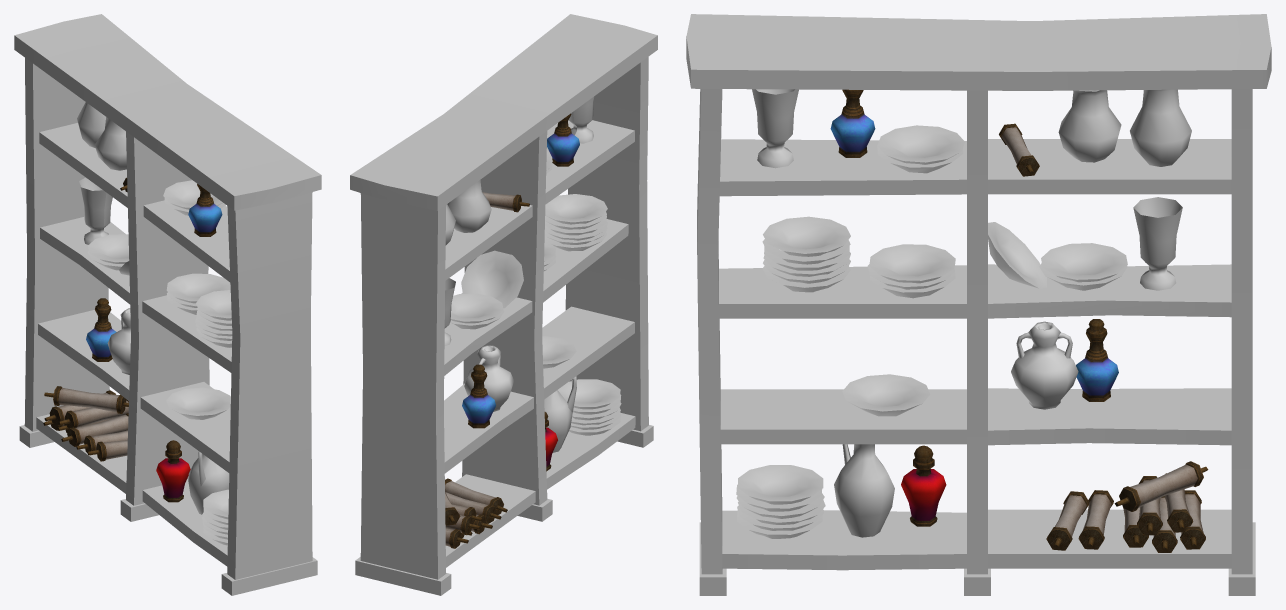
The model's file is Cupboard_12.fbx.
3 views of the same model, side by side, from view 1: azimuth 30°, elevation 25°; view 2: azimuth 150°, elevation 25°; view 3: azimuth 270°, elevation 25° (orthographic). The views are drawn at different scales.
Parts seen in each view (by area): view 1: Cupboard_12; view 2: Cupboard_12; view 3: Cupboard_12.
Boxes of the visible parts, x1,y1,x2,y2 form: Cupboard_12: [14, 14, 321, 595]; Cupboard_12: [350, 14, 657, 595]; Cupboard_12: [686, 14, 1271, 595].
Bounding box in the file's own units: 0.6309 × 2.61 × 2.63.
